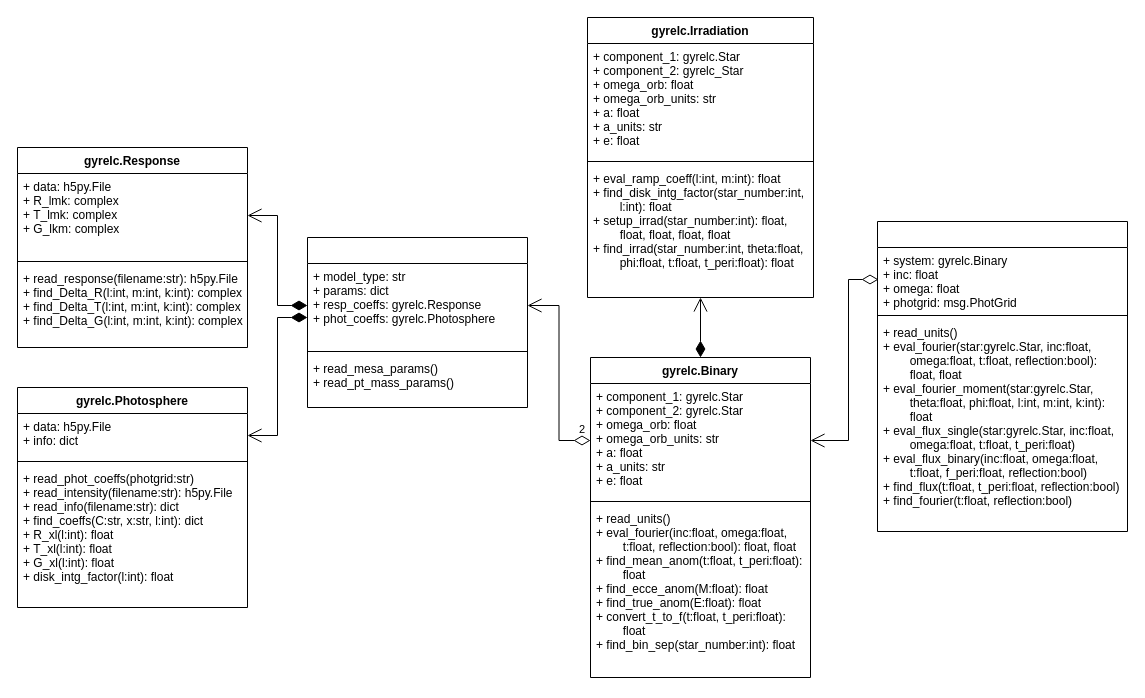
This 1145x698 diagram has some shape labels left out. Here are the shapes that lost their labels. From the top down, the box of each, then its label:
(306, 236, 528, 408): gyrelc.Star
(876, 220, 1128, 532): gyrelc.Observer
